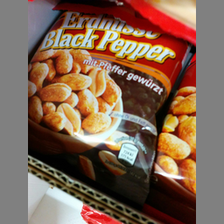nuts: (28, 10, 191, 206)
